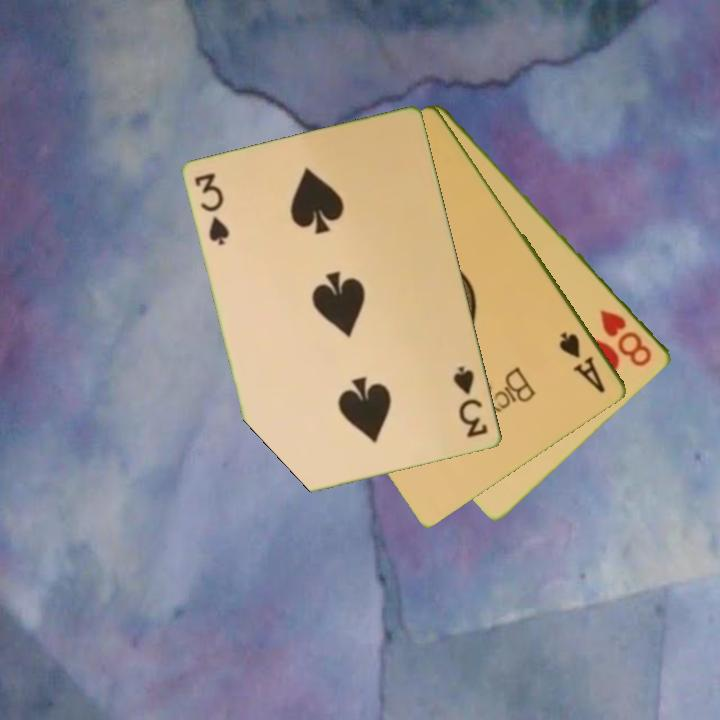3s: (191, 169, 233, 249), (450, 363, 492, 441)
8h: (596, 306, 655, 370)
As: (556, 328, 609, 397)
